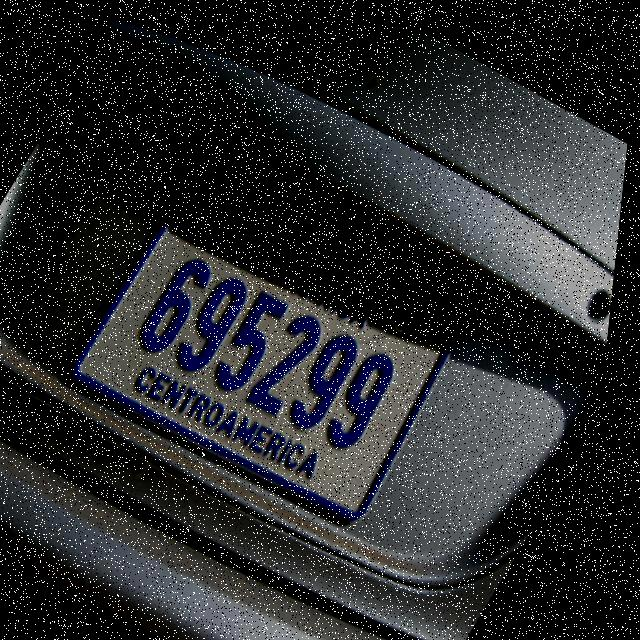license_plate: (75, 187, 472, 514)
